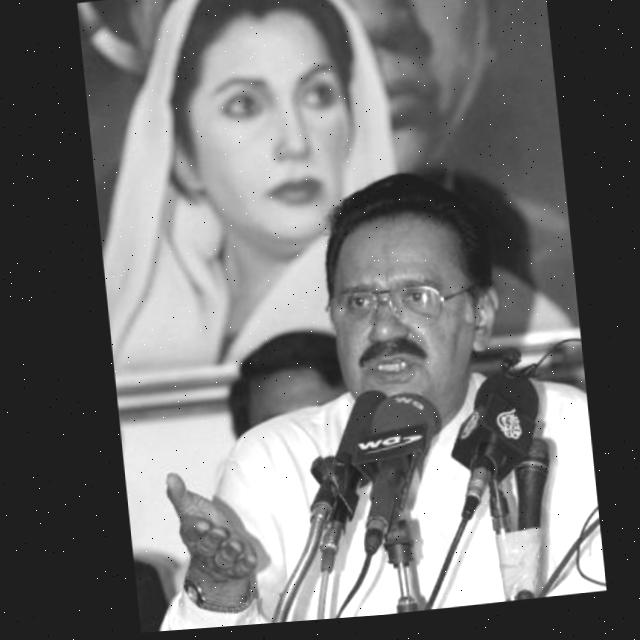face: (147, 0, 361, 285), (287, 181, 508, 437)
